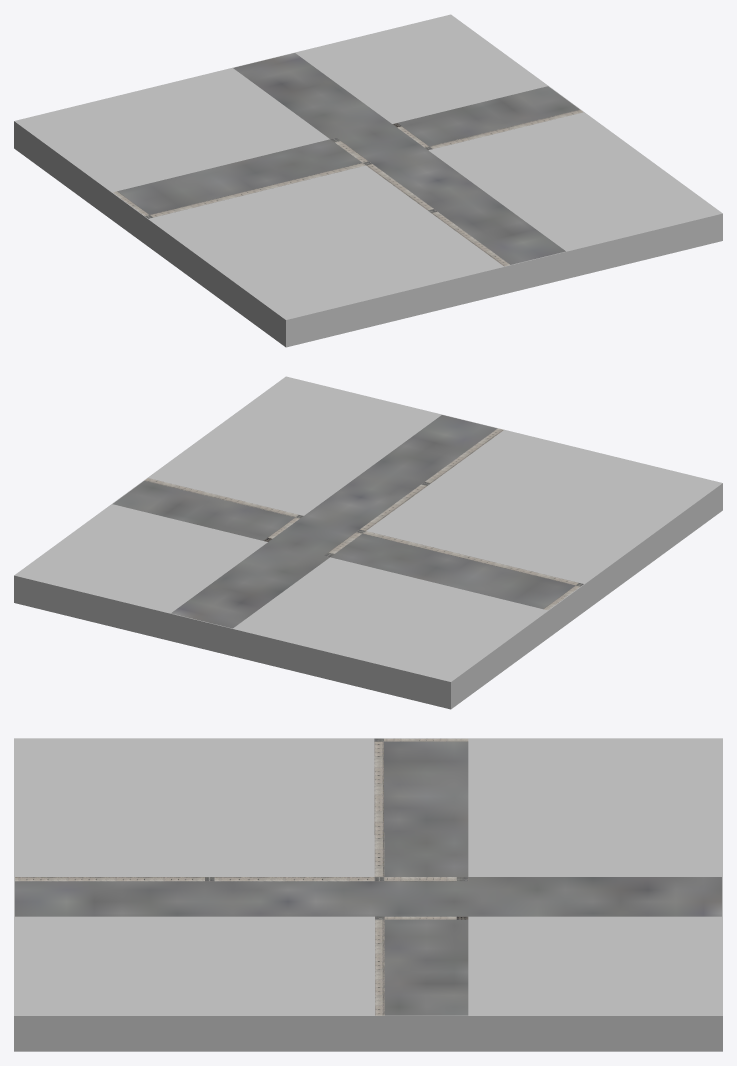
The picture shows the model from 3 angles, top to bottom: view 1: azimuth 30°, elevation 25°; view 2: azimuth 150°, elevation 25°; view 3: azimuth 270°, elevation 25°; orthographic projection. The views are drawn at different scales.
Visible parts, largest first — view 1: BB_001_a01; view 2: BB_001_a01; view 3: BB_001_a01.
Boxes of the visible parts, box(x1,y1,x2,y2) form: BB_001_a01: box(14, 14, 722, 347); BB_001_a01: box(14, 376, 722, 709); BB_001_a01: box(14, 738, 722, 1051).
Size of the model in its own units: 33.39 by 2 by 36.
